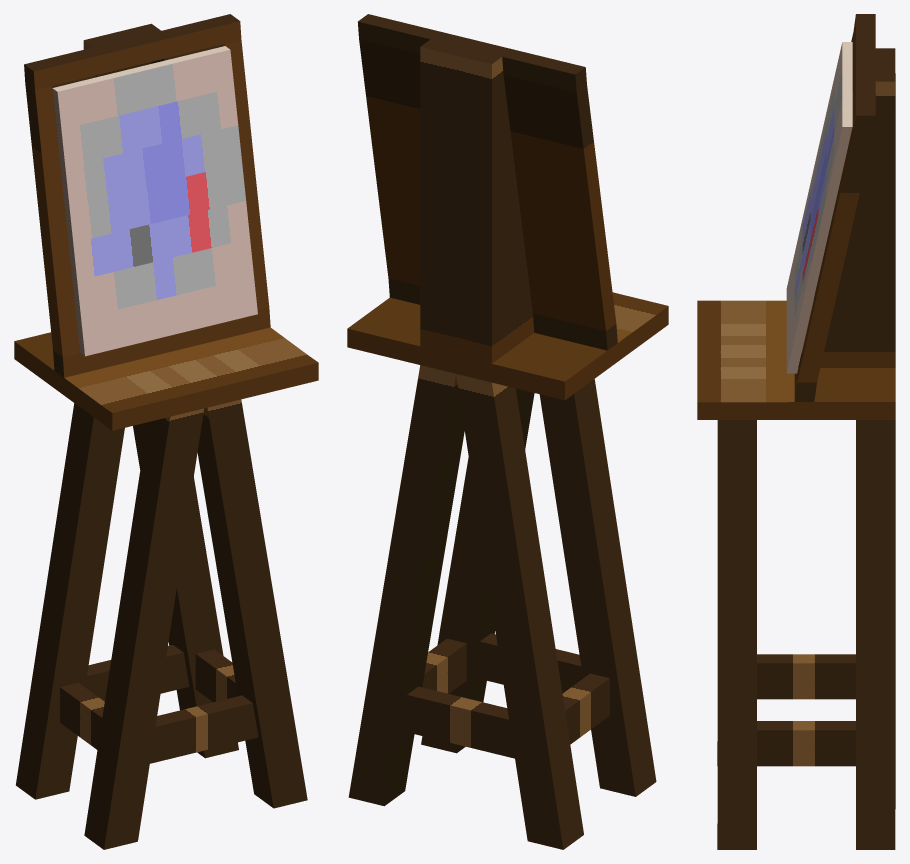
File: easel_837x02.gltf
3 views of the same model, side by side, from view 1: azimuth 30°, elevation 25°; view 2: azimuth 150°, elevation 25°; view 3: azimuth 270°, elevation 25° (orthographic). The views are drawn at different scales.
Visible parts, largest first — view 1: easel_837x02; view 2: easel_837x02; view 3: easel_837x02.
Part boxes in pixels (left/top/right/bottom): easel_837x02: left=14, top=14, right=318, bottom=849; easel_837x02: left=347, top=14, right=668, bottom=849; easel_837x02: left=697, top=14, right=895, bottom=849.
Bounding box in the file's own units: 1.22 × 4.1 × 1.
1 material, 1 textured.
